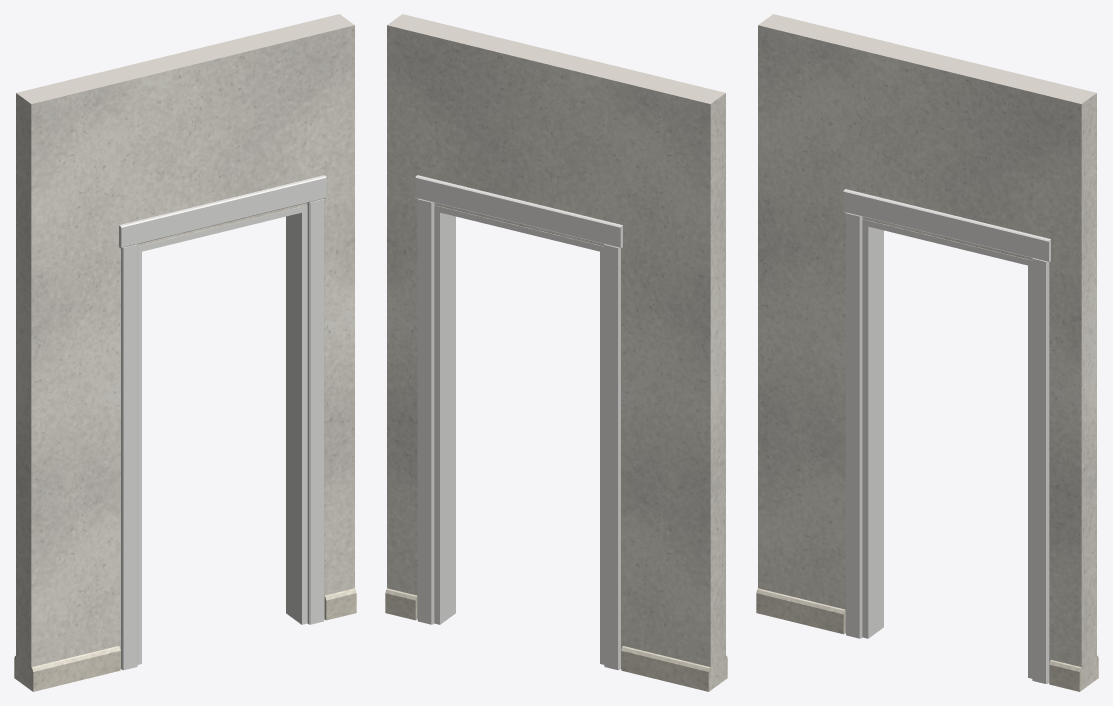
File: iw0_end_doorway.glb
The picture shows the model from 3 angles, left to right: view 1: azimuth 30°, elevation 25°; view 2: azimuth 150°, elevation 25°; view 3: azimuth 330°, elevation 25°; orthographic projection.
Visible parts, largest first — view 1: iw0_end_doorway_plaster, iw0_end_doorway_frame, iw0_end_doorway_trim; view 2: iw0_end_doorway_plaster, iw0_end_doorway_frame, iw0_end_doorway_trim; view 3: iw0_end_doorway_plaster, iw0_end_doorway_frame, iw0_end_doorway_trim.
Boxes of the visible parts, bbox=[...] form: iw0_end_doorway_plaster: bbox=[16, 14, 354, 690]; iw0_end_doorway_frame: bbox=[119, 175, 326, 670]; iw0_end_doorway_trim: bbox=[14, 588, 356, 691]; iw0_end_doorway_plaster: bbox=[387, 14, 725, 690]; iw0_end_doorway_frame: bbox=[415, 175, 622, 670]; iw0_end_doorway_trim: bbox=[385, 588, 727, 691]; iw0_end_doorway_plaster: bbox=[758, 14, 1096, 690]; iw0_end_doorway_frame: bbox=[843, 189, 1050, 683]; iw0_end_doorway_trim: bbox=[756, 588, 1098, 691].
Bounding box in the file's own units: 1.7 × 2.94 × 0.18.
3 materials, 2 textured.
